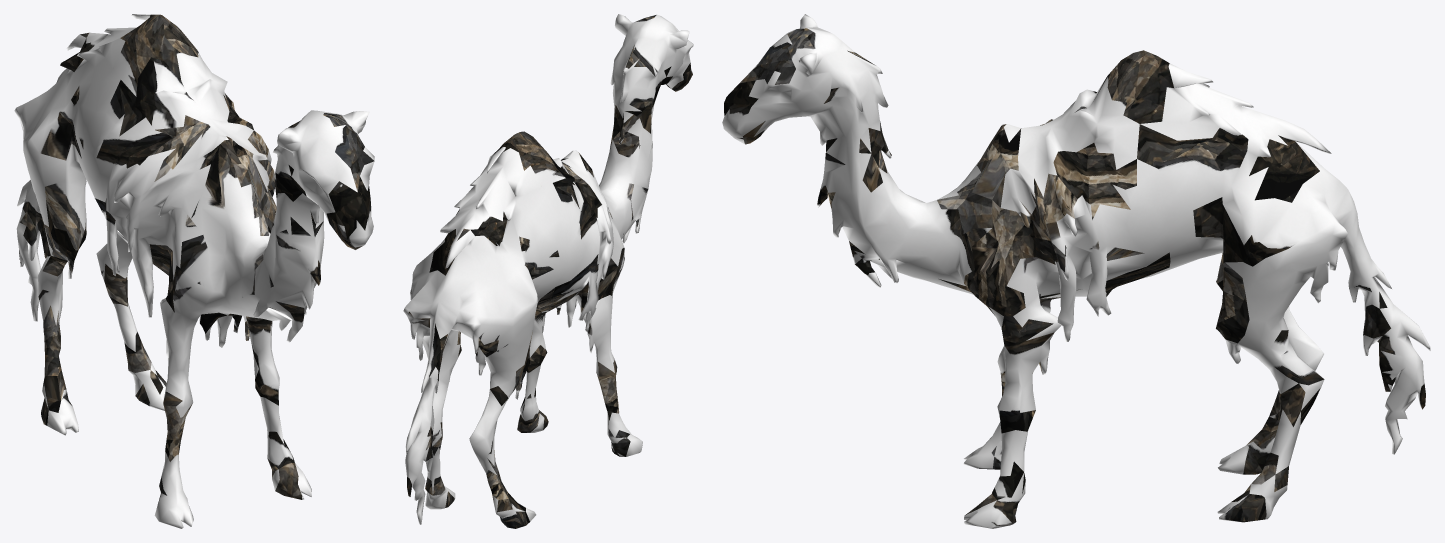
Rendered from dust_camel_basic_5k.fbx.
3 views of the same model, side by side, from view 1: azimuth 30°, elevation 25°; view 2: azimuth 150°, elevation 25°; view 3: azimuth 270°, elevation 25° (orthographic). The views are drawn at different scales.
Visible parts, largest first — view 1: dust_camel_basic_decimated; view 2: dust_camel_basic_decimated; view 3: dust_camel_basic_decimated.
Boxes of the visible parts, x1,y1,x2,y2 form: dust_camel_basic_decimated: (14,14,374,528); dust_camel_basic_decimated: (403,14,693,528); dust_camel_basic_decimated: (722,14,1430,528).
Bounding box in the file's own units: 0.4971 × 1.37 × 1.9.
